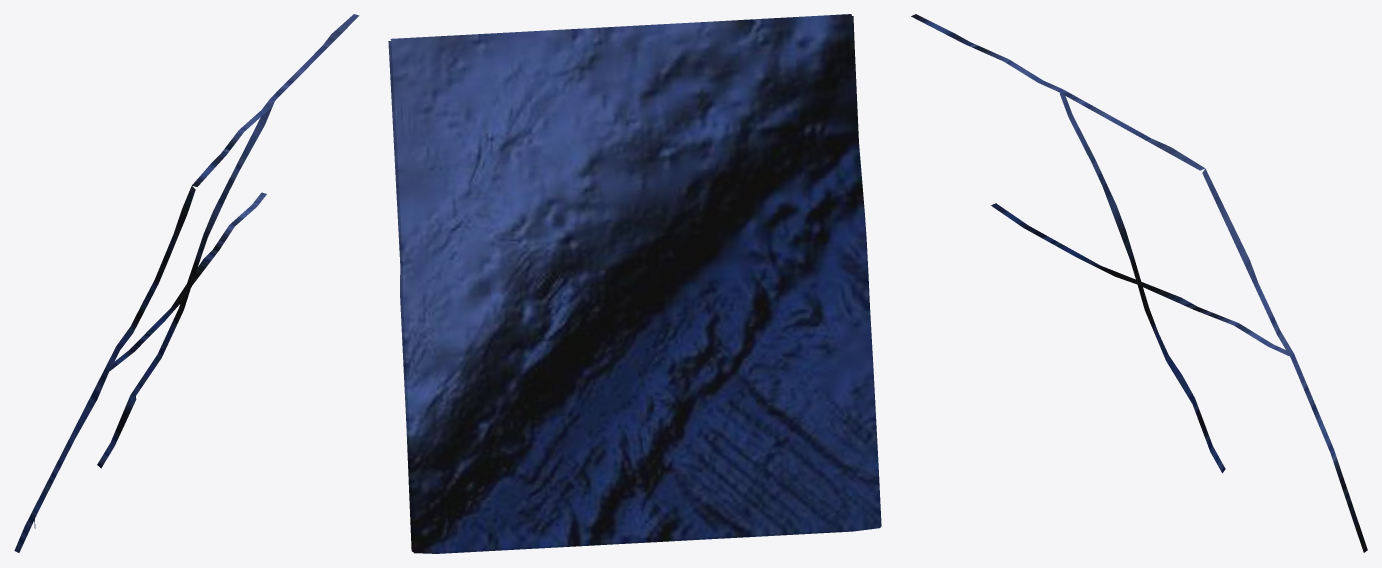
3 renders of one model, left to right at view 1: azimuth 30°, elevation 25°; view 2: azimuth 150°, elevation 25°; view 3: azimuth 270°, elevation 25°, orthographic. The views are drawn at different scales.
Bounding box in the file's own units: 152121 × 146075 × 138192.
Materials: 1 (1 with a texture image).
